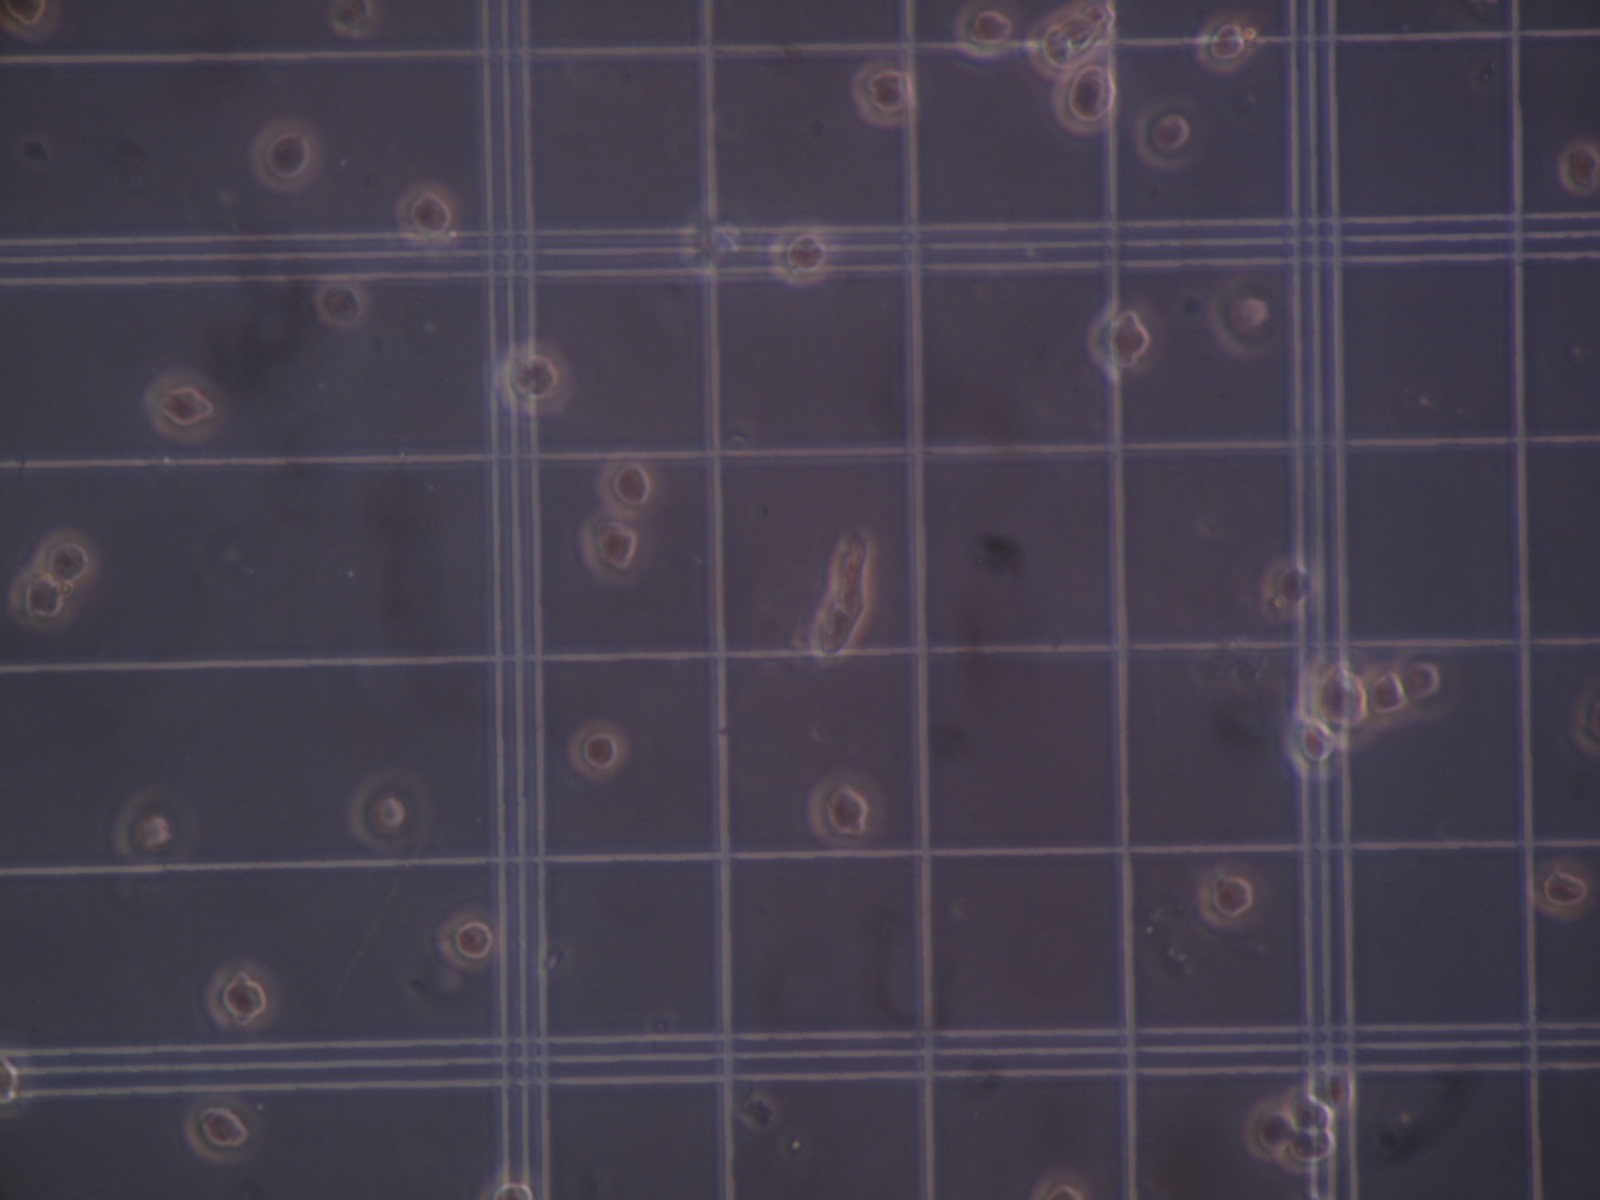hemo: (1027, 1, 1117, 84), (1301, 655, 1372, 749), (112, 787, 186, 874), (142, 368, 226, 444), (1086, 299, 1162, 381), (346, 769, 418, 852), (808, 771, 882, 848), (496, 340, 571, 416), (207, 958, 278, 1032), (249, 117, 320, 193), (1207, 277, 1272, 358), (183, 1094, 257, 1163), (580, 512, 648, 585), (1049, 66, 1117, 136), (1133, 100, 1198, 171), (1393, 647, 1456, 720), (850, 61, 917, 127), (679, 211, 742, 280), (1197, 863, 1262, 929), (394, 182, 459, 247), (769, 221, 831, 287), (9, 568, 74, 632), (596, 456, 659, 521), (438, 908, 501, 971), (1532, 858, 1595, 920), (568, 718, 627, 782), (37, 527, 100, 585), (1194, 13, 1252, 74), (952, 3, 1015, 59), (1262, 557, 1319, 618), (1283, 715, 1335, 778), (1243, 1100, 1296, 1161), (1363, 666, 1410, 729), (314, 276, 368, 328), (1305, 1064, 1356, 1114), (1283, 1087, 1334, 1134), (1281, 1129, 1337, 1174), (1, 1, 60, 42), (1570, 679, 1600, 758), (1558, 140, 1600, 197), (1031, 1170, 1090, 1200), (328, 1, 375, 38), (1, 1041, 23, 1121), (488, 1184, 534, 1200)
